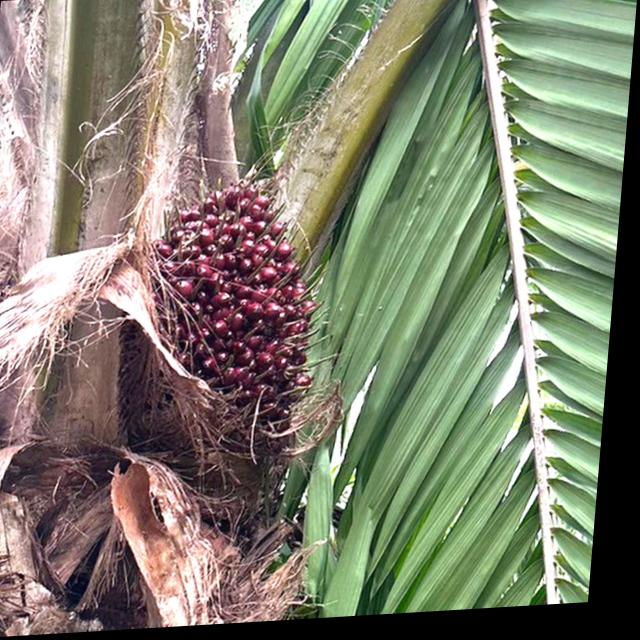ripe: (103, 137, 370, 480)
